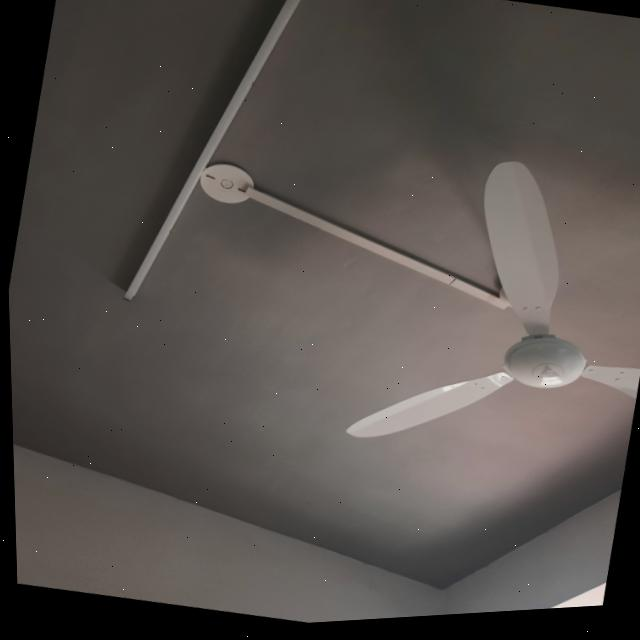light_off: (105, 0, 319, 336)
